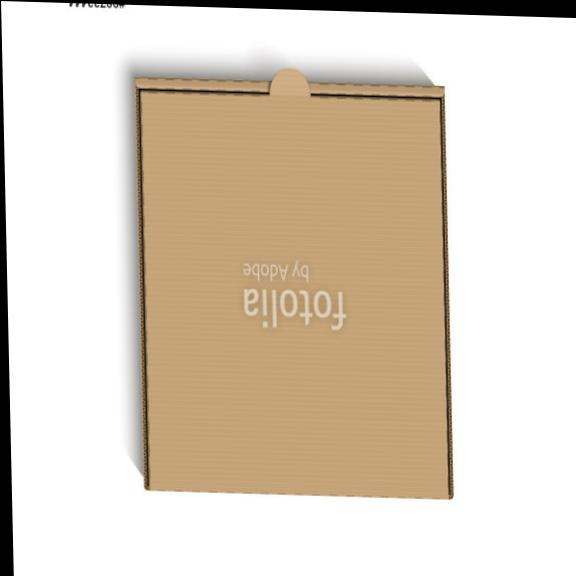Kertas: (135, 70, 452, 497)
